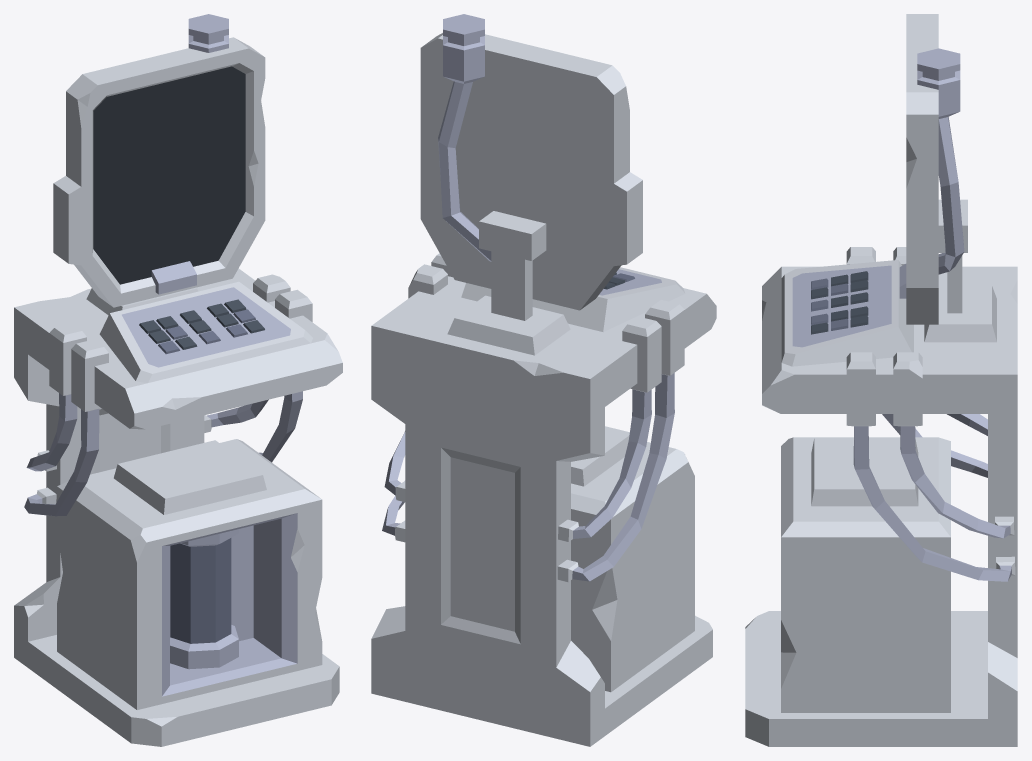
The model's file is SolarPanelControl.FBX.
The picture shows the model from 3 angles, left to right: view 1: azimuth 30°, elevation 25°; view 2: azimuth 150°, elevation 25°; view 3: azimuth 270°, elevation 25°; orthographic projection. The views are drawn at different scales.
Parts seen in each view (by area): view 1: Object001; view 2: Object001; view 3: Object001.
Part boxes in pixels (x1=…): Object001: x1=14, y1=14, x2=342, y2=746; Object001: x1=371, y1=14, x2=716, y2=746; Object001: x1=745, y1=14, x2=1017, y2=746.
Bounding box in the file's own units: 6.06 × 15.86 × 5.92.
